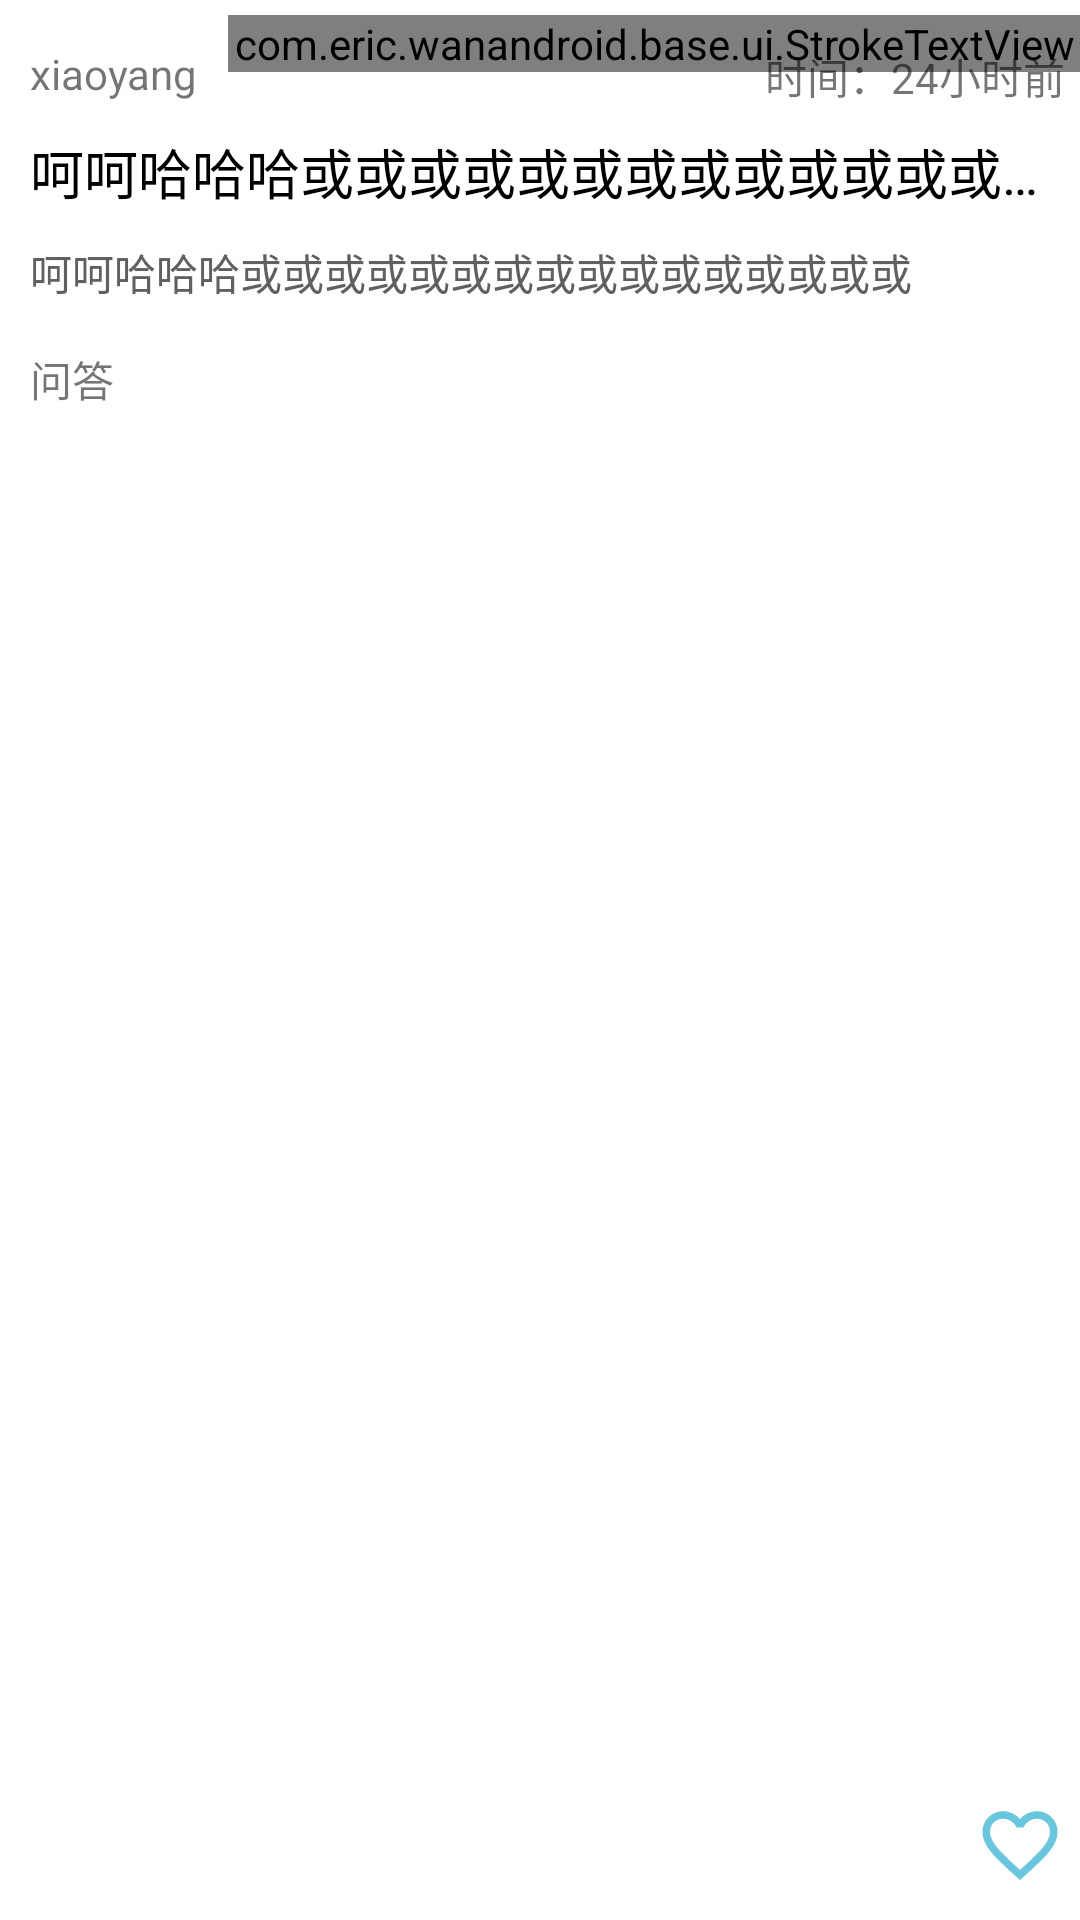

Icons on this 1080*1920 Android screen, each with the point to tap as (x=x, y=y):
favorite border: (x=1020, y=1845)
